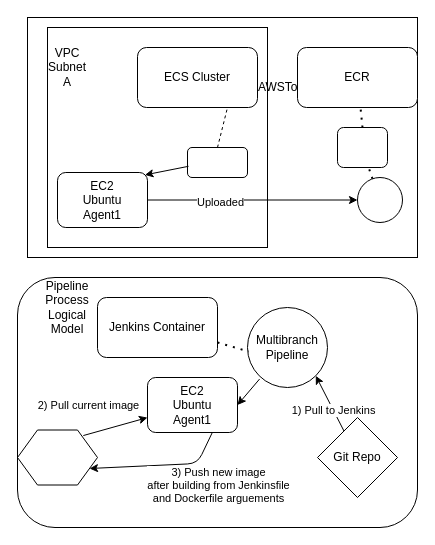
Some shapes in this 435 by 545 pixel diagram are drawn without their labels. Here are the shapes that lost their labels. From the top down, the box of each, then its label:
(186, 146, 248, 178): Jenkins Task
(336, 126, 388, 168): Private Repo
(356, 176, 402, 222): Jenkins/Jenkins image
(16, 429, 98, 485): Dockerhub Repo
